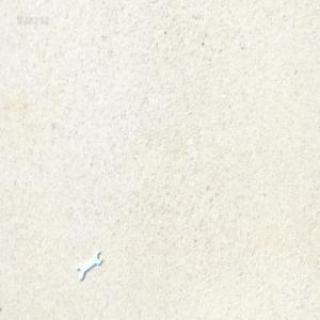Wrenchtrack_idkeyframe: (76, 250, 102, 281)
